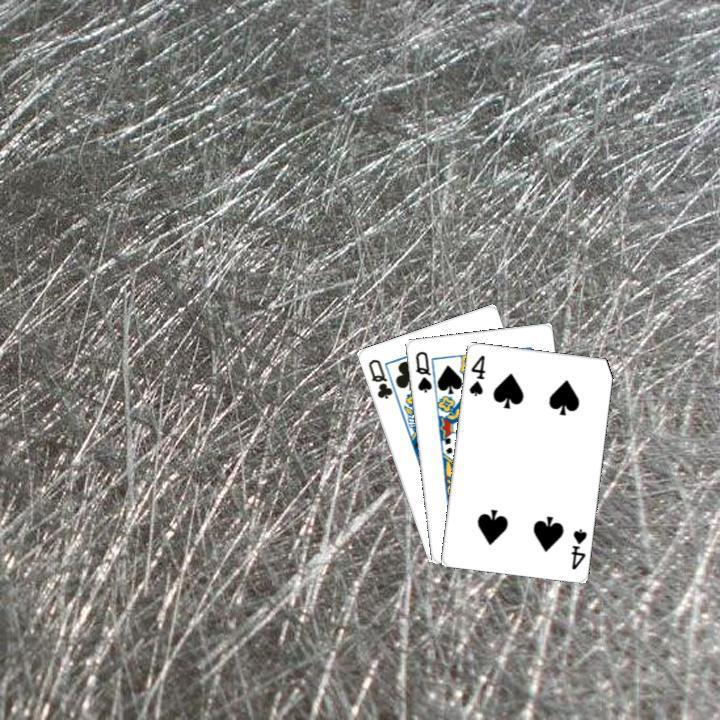4: (464, 350, 487, 398), (566, 524, 589, 571)
Q: (363, 354, 394, 401), (410, 347, 433, 394)
